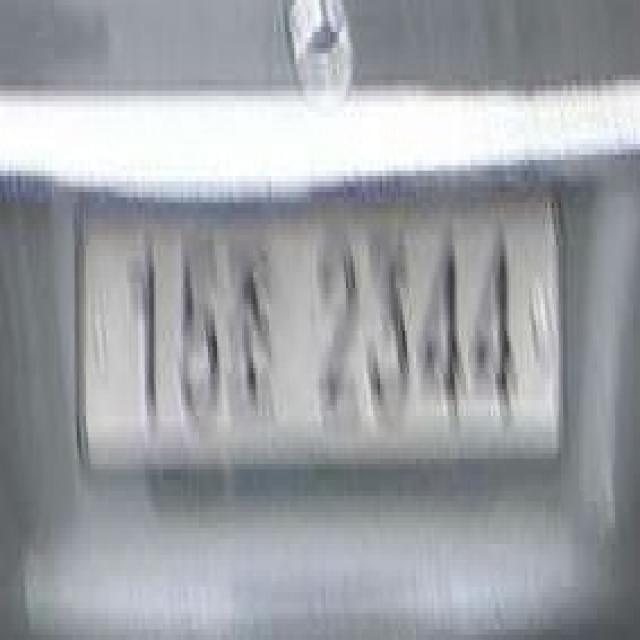1: (122, 224, 167, 432)
2: (310, 224, 366, 432)
3: (364, 224, 414, 432)
4: (466, 219, 520, 437), (414, 224, 468, 432)
5: (174, 230, 226, 438)
jo: (226, 235, 278, 432)
license_plate: (64, 160, 582, 496)
